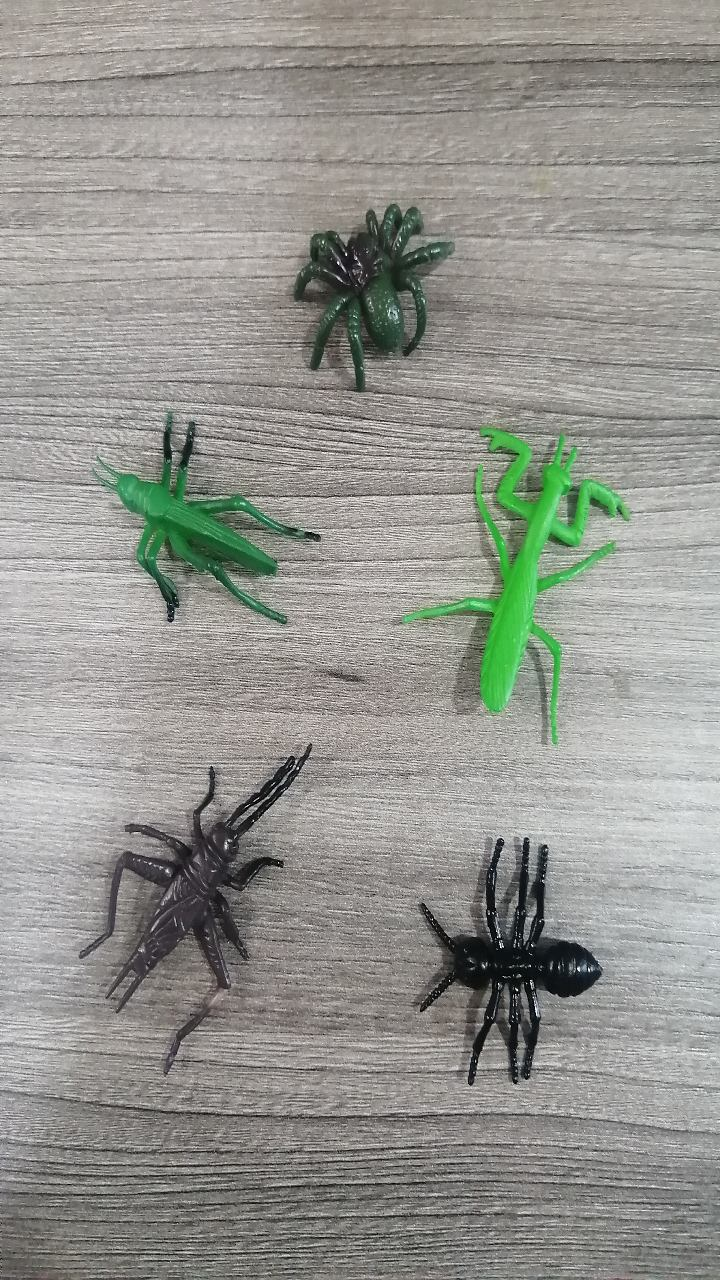intruso: (397, 405, 648, 783), (66, 715, 317, 1092), (386, 819, 629, 1092), (72, 397, 329, 646), (268, 162, 457, 399)
